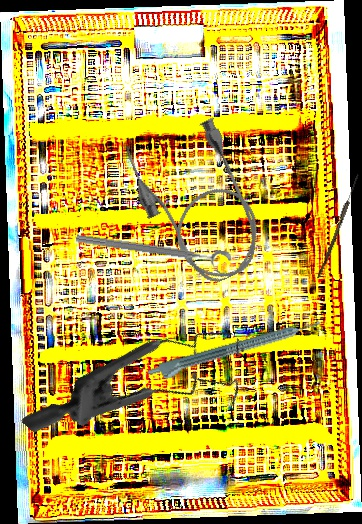Cannula: (116, 108, 278, 298)
Fixation Ring: (74, 230, 232, 277)
Handpiece: (145, 317, 325, 386)
Speculum: (20, 266, 269, 520)
Surgical Spoon: (317, 173, 360, 280)
